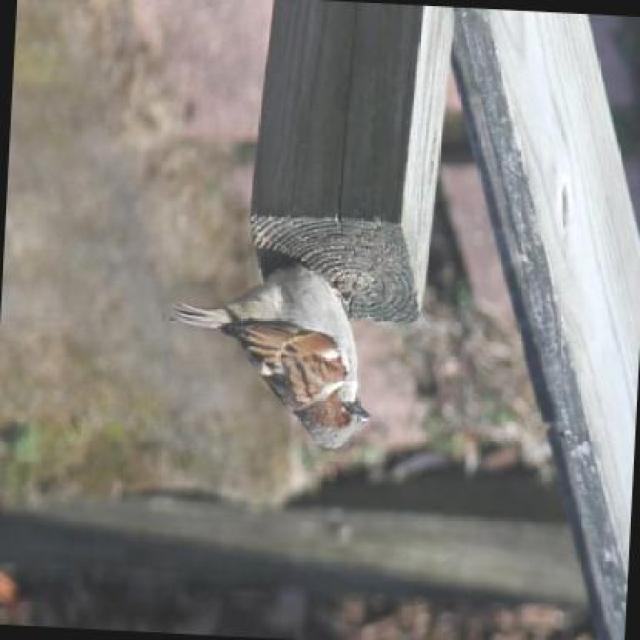sparrow: (157, 253, 380, 458)
